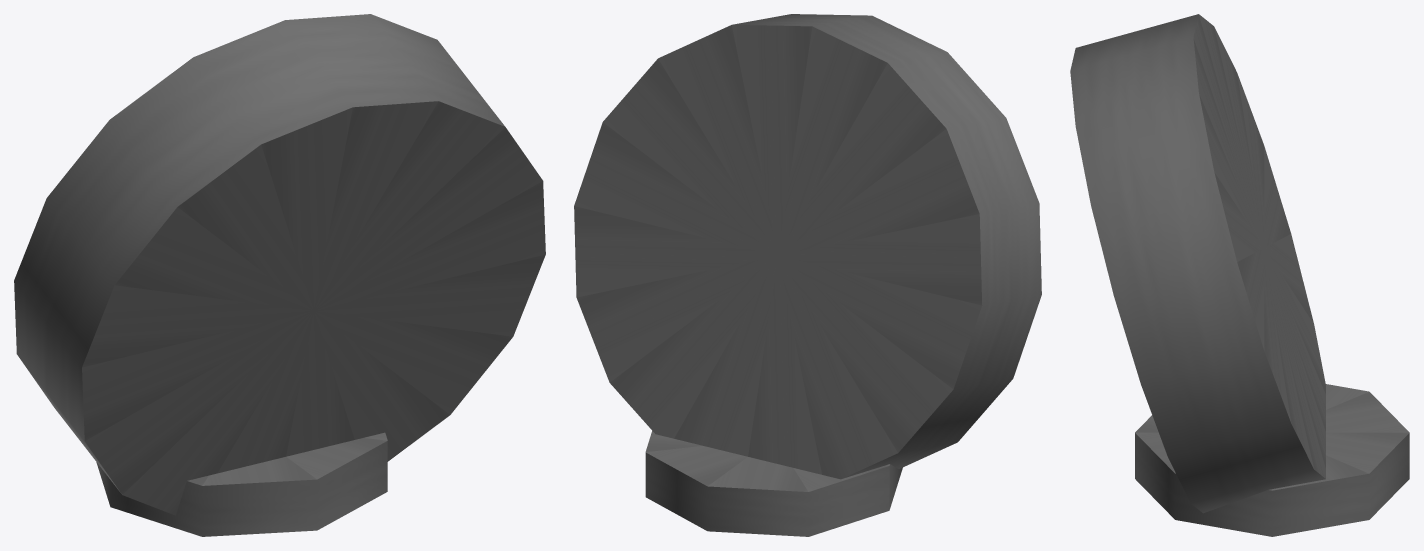
File: mastarmcurve_10x2_c3_down.obj
The picture shows the model from 3 angles, left to right: view 1: azimuth 30°, elevation 25°; view 2: azimuth 150°, elevation 25°; view 3: azimuth 270°, elevation 25°; orthographic projection. The views are drawn at different scales.
Parts seen in each view (by area): view 1: mastarm_10x2_c3_down; view 2: mastarm_10x2_c3_down; view 3: mastarm_10x2_c3_down.
Part boxes in pixels (box(x1,y1,x2,y2)): mastarm_10x2_c3_down: box(14, 14, 545, 536); mastarm_10x2_c3_down: box(574, 14, 1041, 536); mastarm_10x2_c3_down: box(1070, 14, 1409, 536).
Bounding box in the file's own units: 0.7075 × 0.7315 × 0.4942.
